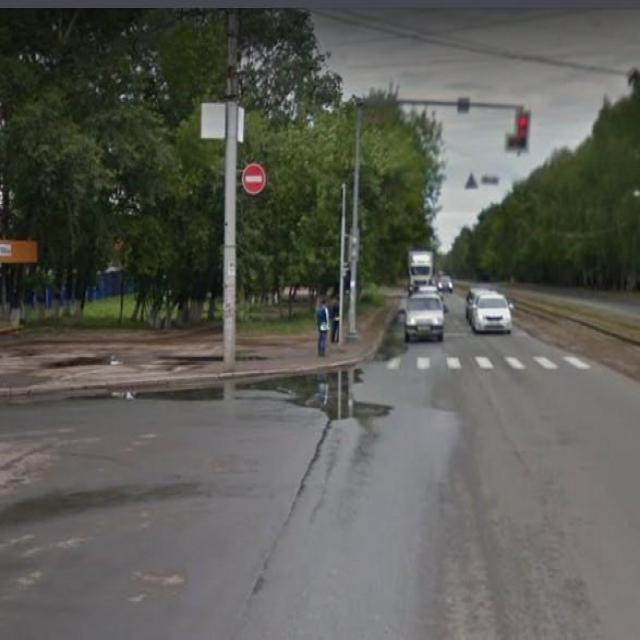traffic_sign: (240, 160, 268, 197)
